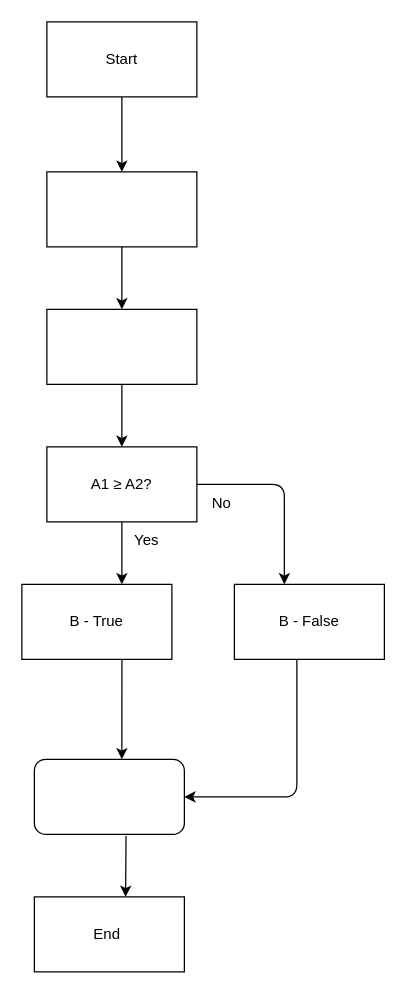
Image size: 406x994. Some labels were removed from this diagram. Each missing label, with the centre of its shape:
"A1 = E*E A2 = 3.14*R*R" goes at point (121, 346).
"int E,R" goes at point (121, 209).
"Print B" goes at point (108, 796).
